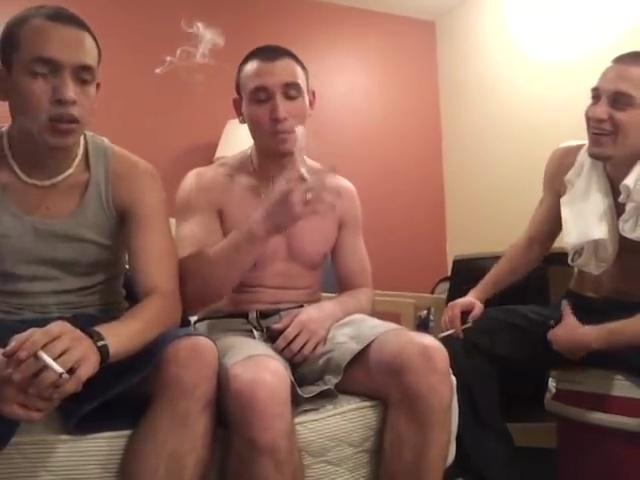cigarette: (34, 347, 73, 381), (437, 321, 477, 340)
